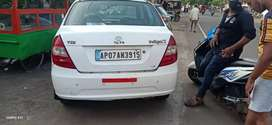AP07AN3915: (95, 48, 141, 59)
